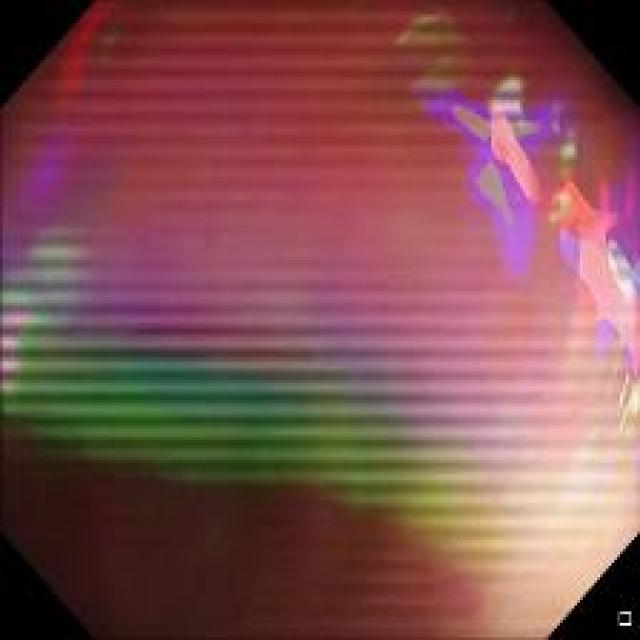color misalignment: (4, 5, 632, 630), (31, 285, 446, 512), (460, 64, 631, 384)
